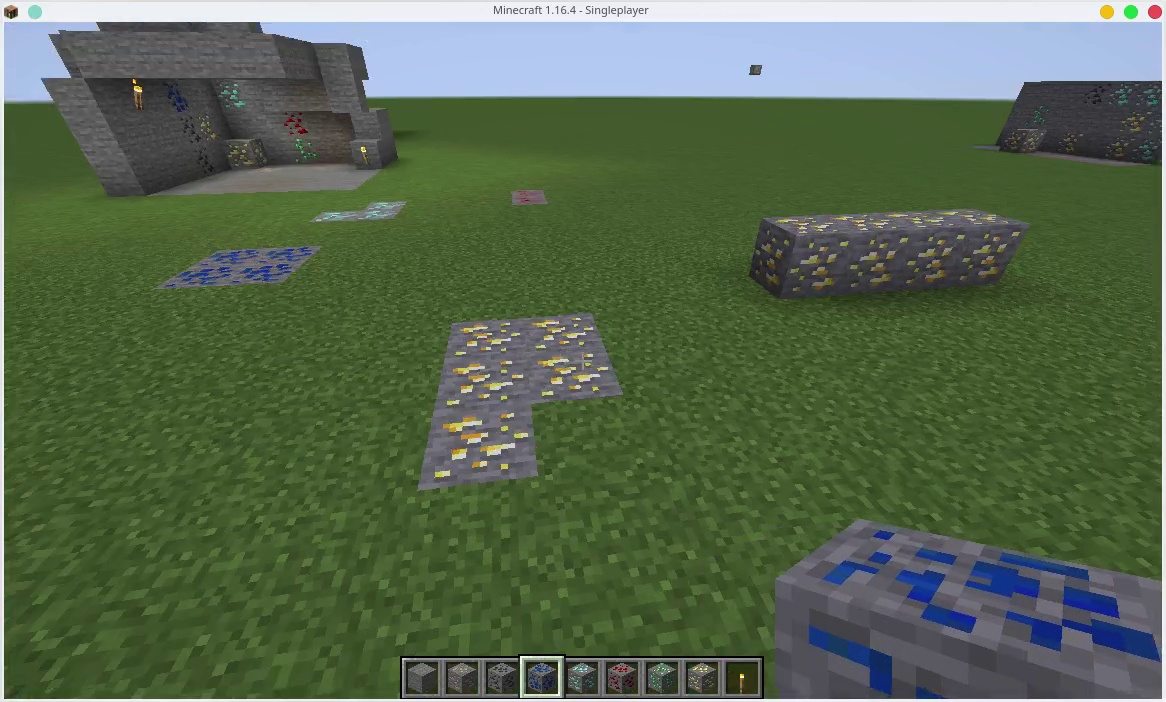gold: (429, 409, 531, 478), (759, 214, 837, 302), (850, 201, 911, 301), (913, 210, 964, 289), (535, 348, 615, 396), (444, 360, 527, 405), (527, 313, 597, 351), (965, 218, 1011, 275), (453, 323, 524, 358), (227, 137, 272, 171), (685, 664, 719, 693), (1007, 127, 1043, 154), (1057, 126, 1079, 153), (200, 110, 217, 140), (1124, 114, 1147, 134), (1109, 139, 1131, 158)
